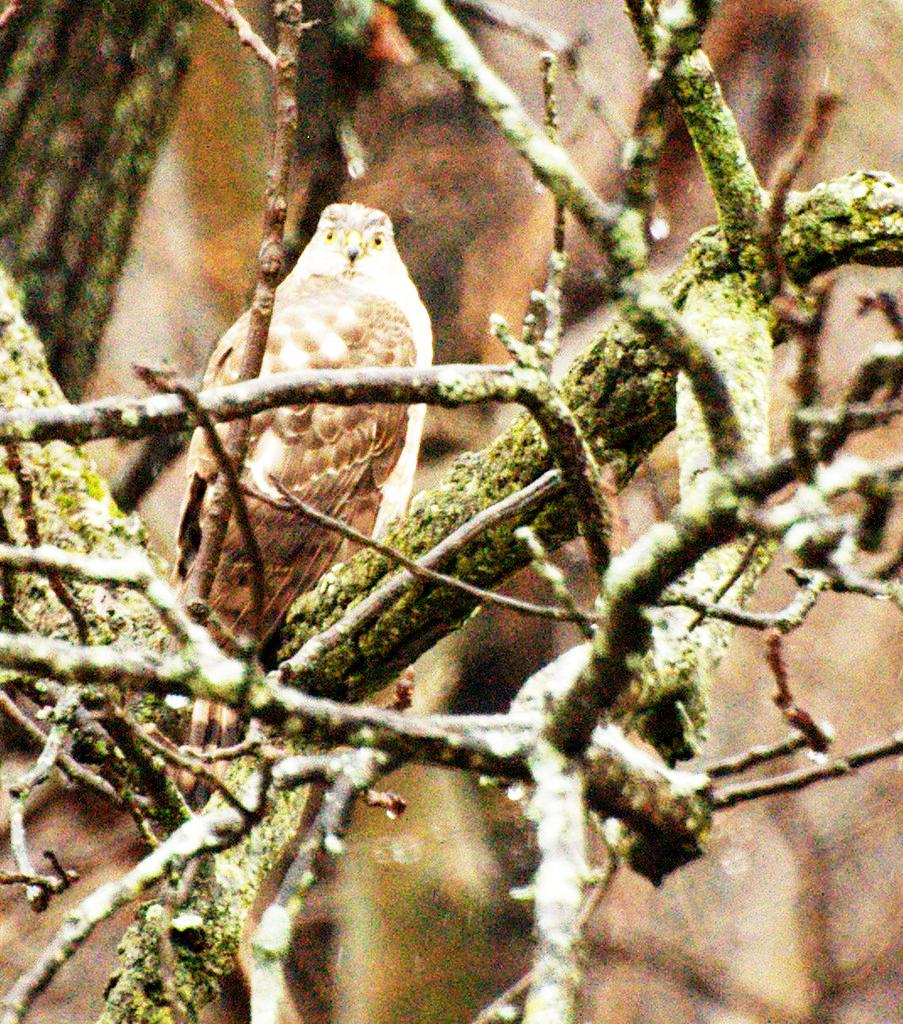Owl: (173, 201, 437, 813)
